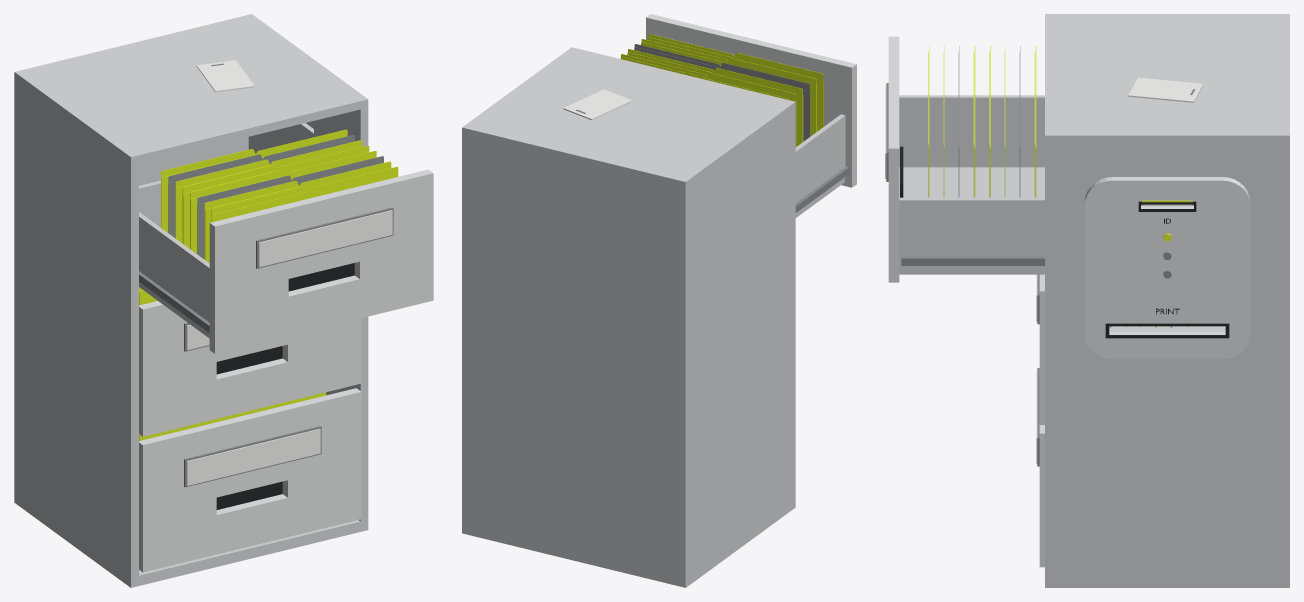
File: archive-cabinet-v7.glb
3 renders of one model, left to right at view 1: azimuth 30°, elevation 25°; view 2: azimuth 150°, elevation 25°; view 3: azimuth 270°, elevation 25°, orthographic. The views are drawn at different scales.
Parts seen in each view (by area): view 1: Cabinet_Body, Drawer_Brand, Drawer_IP, Drawer_Packaging, Label_Plate_IP, Label_Plate_Brand, Folder_Brand_01_Front, Folder_Brand_04_Front, Folder_Brand_08_Front, Folder_Brand_07_Front, Folder_Brand_03_Front, WorkCard_Body (+15 smaller); view 2: Cabinet_Body, Drawer_Brand, Folder_Brand_01_Back, Folder_Brand_02_Back, Folder_Brand_03_Back, Folder_Brand_04_Back, WorkCard_Body, Folder_Brand_05_Back, Rail_Brand_Left; view 3: Cabinet_Body, PersonnelModule_Body, Drawer_Brand, Rail_Brand_Right, WorkCard_Body, Drawer_Packaging, PaperExit, Drawer_IP.
Boxes of the visible parts, x1,y1,x2,y2 form: Cabinet_Body: (14, 14, 368, 587); Drawer_Brand: (139, 169, 433, 353); Drawer_IP: (139, 388, 361, 572); Drawer_Packaging: (139, 301, 361, 436); Label_Plate_IP: (186, 428, 320, 485); Label_Plate_Brand: (258, 210, 392, 267); Folder_Brand_01_Front: (212, 166, 398, 221); Folder_Brand_04_Front: (190, 150, 376, 253); Folder_Brand_08_Front: (161, 129, 347, 232); Folder_Brand_07_Front: (168, 135, 354, 237); Folder_Brand_03_Front: (197, 156, 383, 258); WorkCard_Body: (196, 60, 254, 92); Cabinet_Body: (462, 47, 795, 587); Drawer_Brand: (646, 14, 856, 217); Folder_Brand_01_Back: (648, 37, 823, 131); Folder_Brand_02_Back: (641, 42, 816, 136); Folder_Brand_03_Back: (634, 47, 809, 141); Folder_Brand_04_Back: (627, 52, 802, 146); WorkCard_Body: (563, 89, 632, 120); Folder_Brand_05_Back: (620, 57, 795, 146); Rail_Brand_Left: (795, 166, 849, 212); Cabinet_Body: (1045, 14, 1289, 587); PersonnelModule_Body: (1084, 177, 1250, 358); Drawer_Brand: (888, 36, 1044, 282); Rail_Brand_Right: (901, 256, 1044, 265); WorkCard_Body: (1128, 77, 1203, 102); Drawer_Packaging: (1039, 274, 1225, 424); PaperExit: (1105, 323, 1229, 338); Drawer_IP: (1039, 425, 1044, 567).
Size of the model in its own units: 1.24 by 2.09 by 1.69.
